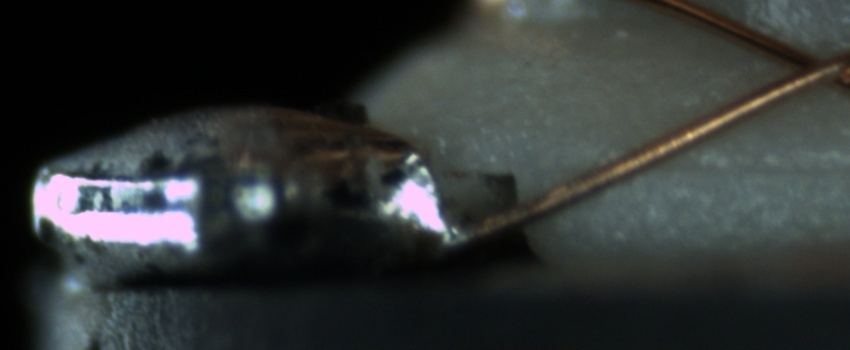CL: (760, 36, 847, 100)
DL: (620, 131, 845, 201)
